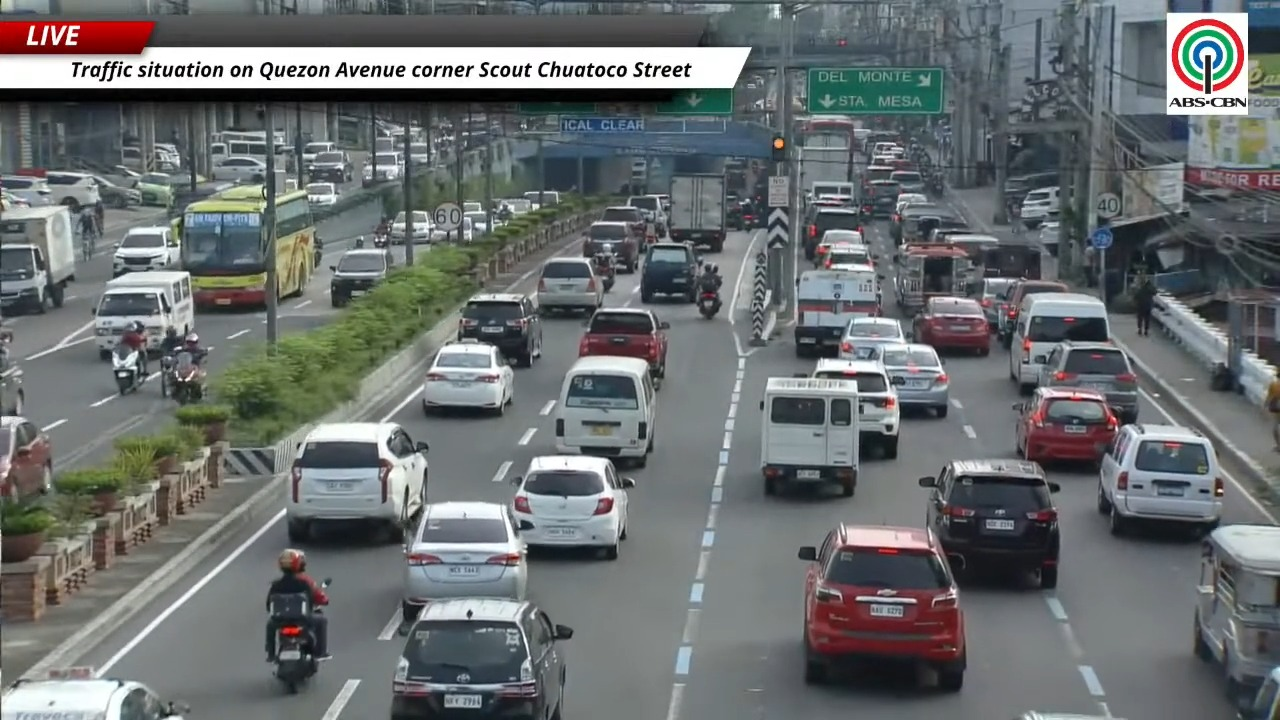bus: (179, 185, 315, 307)
car: (798, 524, 966, 692), (390, 597, 572, 719), (918, 459, 1060, 588), (285, 422, 428, 542), (402, 501, 528, 621), (1097, 423, 1224, 535), (511, 455, 634, 559), (3, 666, 189, 719), (811, 359, 900, 458), (1037, 341, 1138, 423), (1014, 387, 1118, 462), (422, 340, 513, 414), (578, 308, 669, 379), (456, 293, 542, 366), (880, 343, 949, 417), (996, 279, 1068, 348), (912, 297, 989, 356), (0, 415, 52, 500), (537, 257, 603, 315), (330, 248, 392, 307), (641, 242, 699, 302), (804, 201, 862, 260), (113, 225, 180, 276), (582, 221, 643, 273), (838, 317, 906, 359), (44, 171, 100, 211), (889, 197, 938, 242), (977, 277, 1017, 332), (1019, 185, 1059, 228), (0, 175, 55, 206), (91, 175, 141, 208), (626, 195, 666, 236), (597, 205, 646, 237), (307, 151, 353, 185), (389, 211, 434, 244), (862, 179, 901, 217), (361, 151, 402, 187), (212, 156, 265, 183), (430, 212, 474, 244), (819, 242, 873, 268), (134, 172, 173, 207), (5, 186, 52, 206), (302, 141, 339, 166), (889, 170, 924, 195), (304, 182, 339, 207), (1037, 220, 1059, 256), (820, 228, 865, 245), (895, 192, 927, 214), (496, 198, 532, 216), (409, 142, 434, 167), (464, 211, 490, 235), (0, 192, 30, 210), (462, 201, 483, 213)
motorcycle: (274, 622, 319, 693), (161, 351, 203, 404), (111, 344, 145, 394), (593, 243, 616, 292), (697, 290, 720, 319), (313, 236, 323, 267), (373, 233, 388, 248), (353, 236, 363, 248)
truck: (0, 206, 77, 312), (668, 174, 726, 252), (799, 135, 853, 190)
